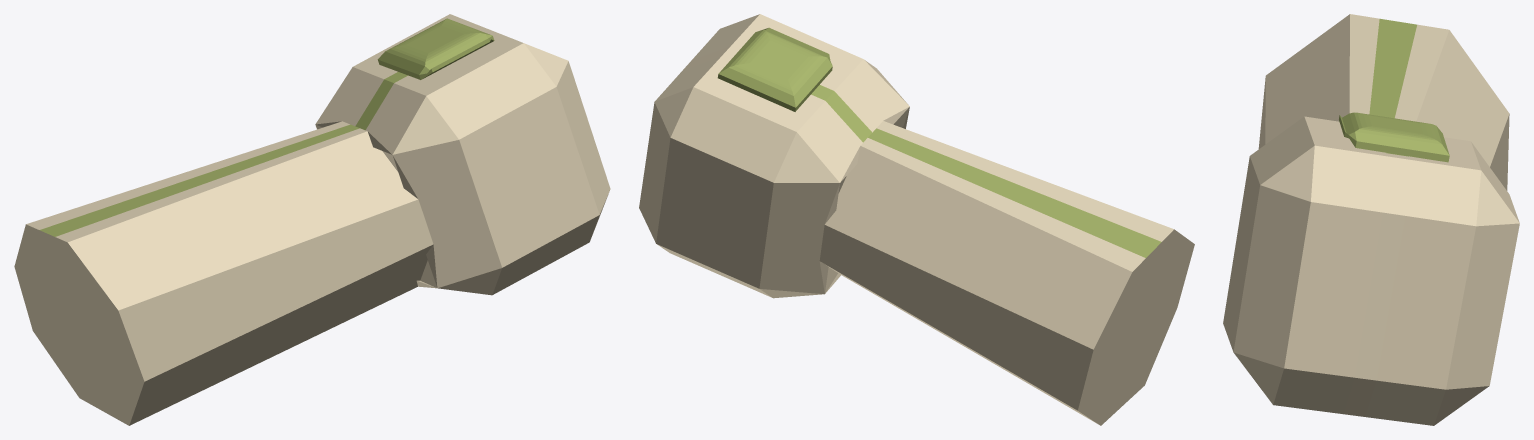
The model's file is arm.fbx.
3 renders of one model, left to right at view 1: azimuth 30°, elevation 25°; view 2: azimuth 150°, elevation 25°; view 3: azimuth 270°, elevation 25°, orthographic. The views are drawn at different scales.
Visible parts, largest first — view 1: Main Body, Orb; view 2: Main Body, Orb; view 3: Main Body, Orb.
Boxes of the visible parts, x1,y1,x2,y2 form: Main Body: (14,14,610,425); Orb: (39,18,494,236); Main Body: (639,14,1194,425); Orb: (717,27,1161,257); Main Body: (1223,14,1519,425); Orb: (1339,18,1449,162).
Bounding box in the file's own units: 240 × 131 × 102.
